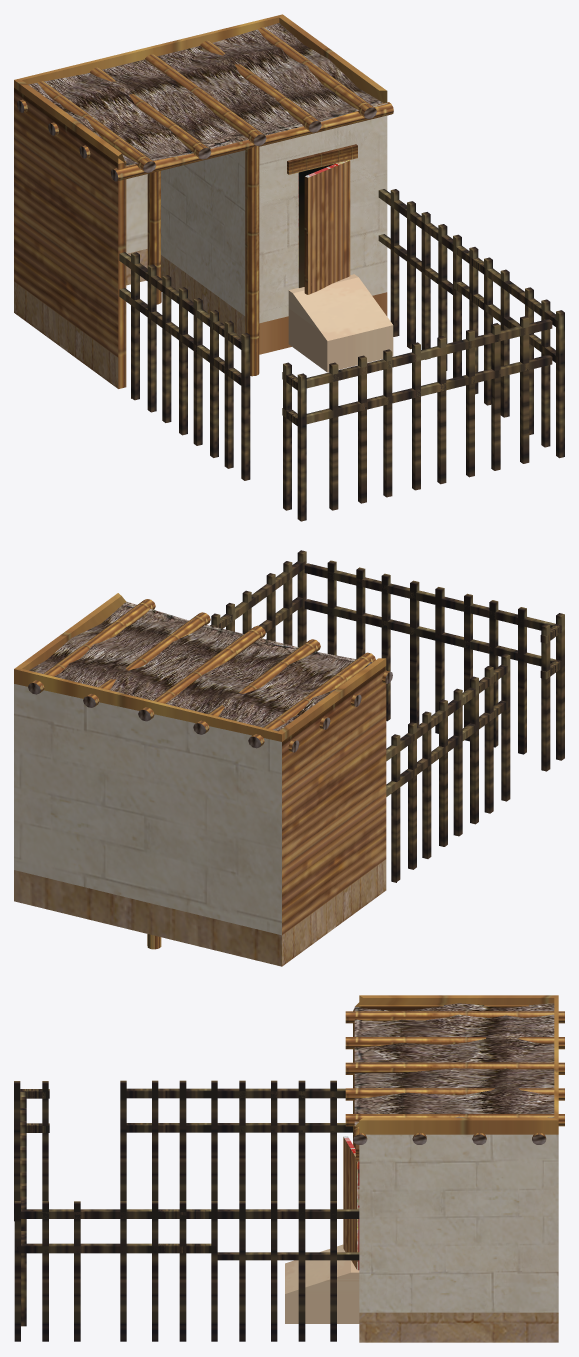
The model's file is corral.dae.
The picture shows the model from 3 angles, top to bottom: view 1: azimuth 30°, elevation 25°; view 2: azimuth 150°, elevation 25°; view 3: azimuth 270°, elevation 25°; orthographic projection. The views are drawn at different scales.
Visible parts, largest first — view 1: corral; view 2: corral; view 3: corral.
Boxes of the visible parts, left/top/right/bottom form: corral: left=14, top=14, right=564, bottom=521; corral: left=14, top=550, right=564, bottom=966; corral: left=14, top=995, right=564, bottom=1342.
Bounding box in the file's own units: 10.2 × 18.52 × 8.84.
